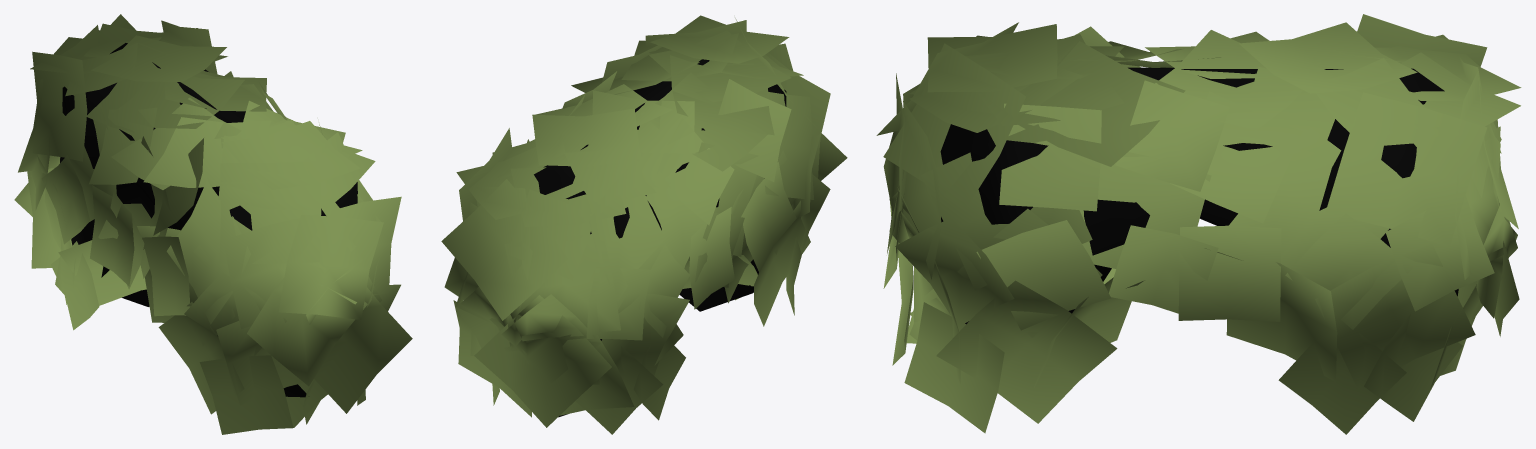
File: BushSmallHole_01.fbx
3 renders of one model, left to right at view 1: azimuth 30°, elevation 25°; view 2: azimuth 150°, elevation 25°; view 3: azimuth 270°, elevation 25°, orthographic. The views are drawn at different scales.
Parts seen in each view (by area): view 1: BushSmallHole; view 2: BushSmallHole; view 3: BushSmallHole.
Boxes of the visible parts, box(x1,y1,x2,y2) form: BushSmallHole: box(14, 14, 412, 434); BushSmallHole: box(441, 15, 847, 434); BushSmallHole: box(876, 14, 1521, 434).
Bounding box in the file's own units: 2.78 × 3.4 × 5.73.
